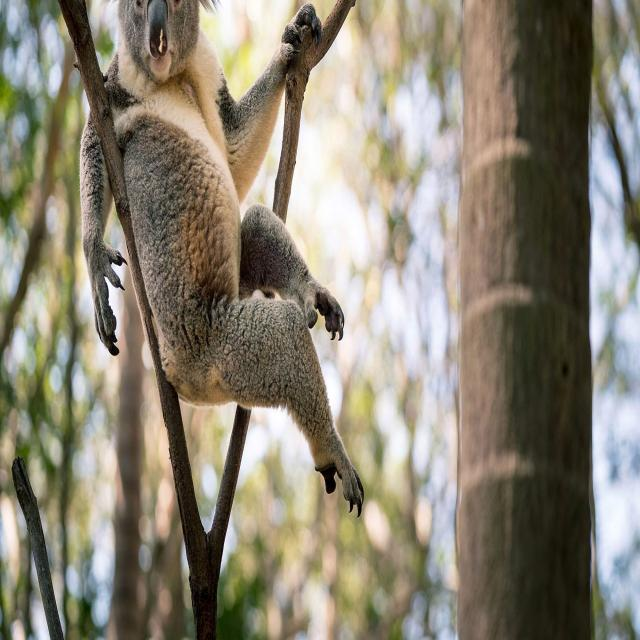koala: (80, 0, 363, 510)
